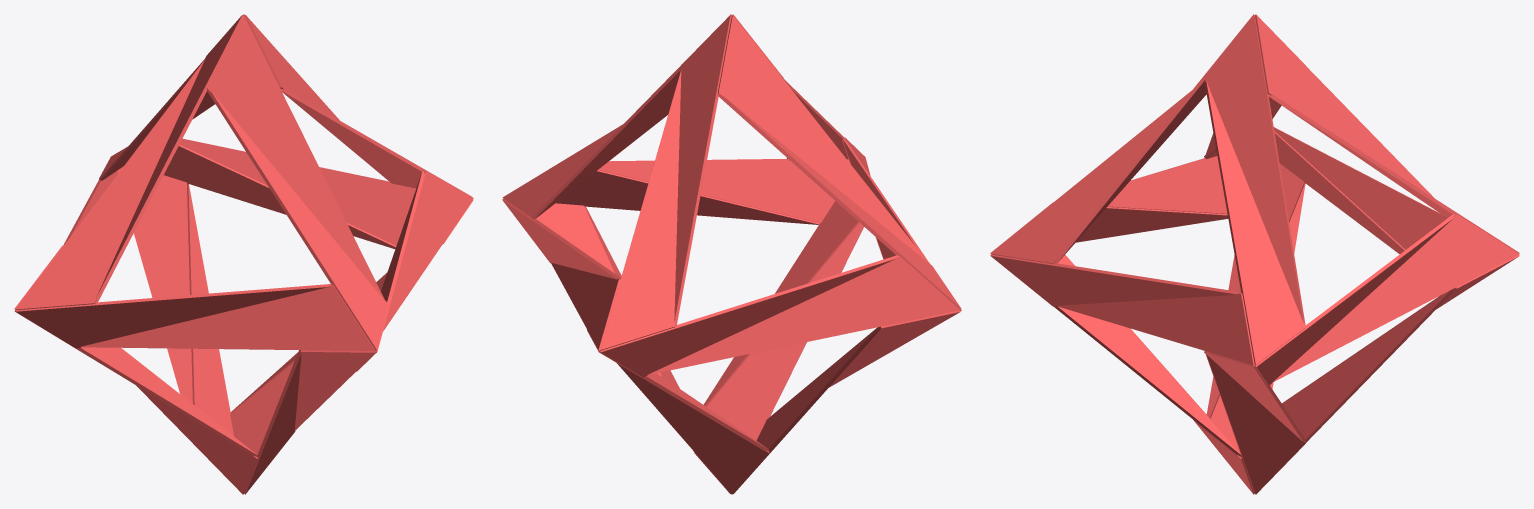
File: Octahedron1.glb
3 views of the same model, side by side, from view 1: azimuth 30°, elevation 25°; view 2: azimuth 150°, elevation 25°; view 3: azimuth 270°, elevation 25° (orthographic).
Parts seen in each view (by area): view 1: root; view 2: root; view 3: root.
Boxes of the visible parts, <box> form: root: <box>14,14,473,494</box>; root: <box>502,14,961,494</box>; root: <box>990,14,1519,494</box>.
Size of the model in its own units: 1.42 by 1.42 by 1.42.
